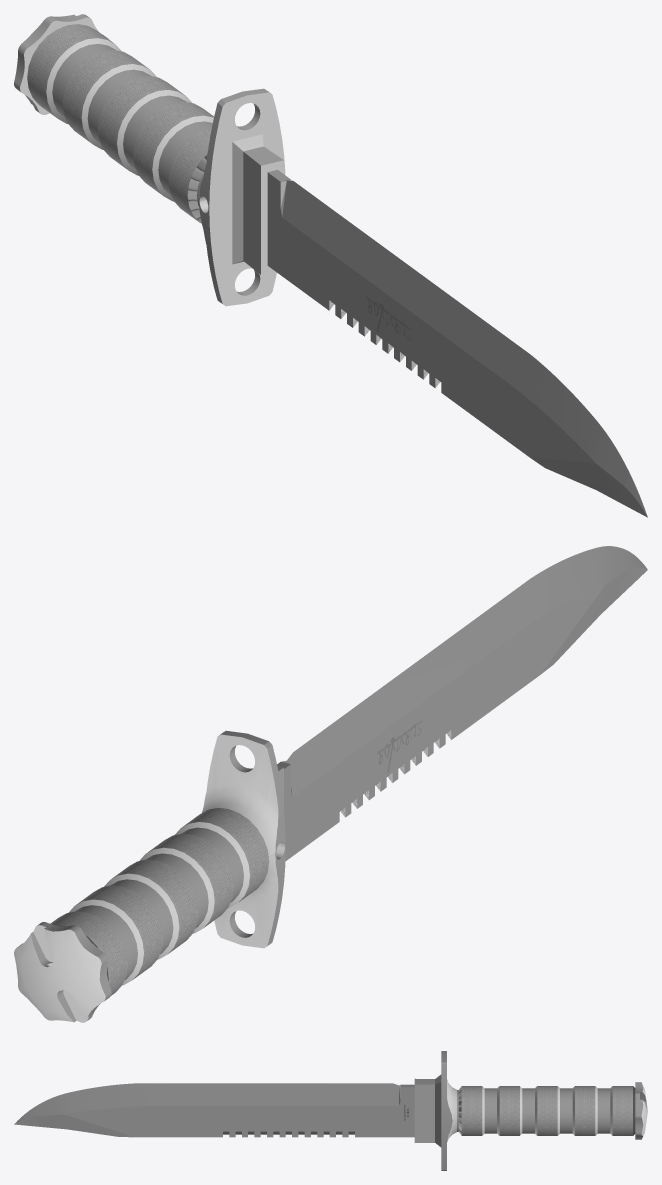
Rendered from model_align.obj.
3 views of the same model, one above another, from view 1: azimuth 30°, elevation 25°; view 2: azimuth 150°, elevation 25°; view 3: azimuth 270°, elevation 25° (orthographic). The views are drawn at different scales.
Visible parts, largest first — view 1: mesh1_mesh1-geometry, mesh5_mesh5-geometry, mesh2_mesh2-geometry, mesh3_mesh3-geometry, mesh6_mesh6-geometry, mesh4_mesh4-geometry, mesh22_mesh22-geometry; view 2: mesh1_mesh1-geometry, mesh5_mesh5-geometry, mesh2_mesh2-geometry, mesh22_mesh22-geometry, mesh6_mesh6-geometry, mesh4_mesh4-geometry; view 3: mesh1_mesh1-geometry, mesh5_mesh5-geometry, mesh6_mesh6-geometry, mesh3_mesh3-geometry, mesh4_mesh4-geometry, mesh2_mesh2-geometry, mesh22_mesh22-geometry.
Boxes of the visible parts, x1,y1,x2,y2 form: mesh1_mesh1-geometry: (267, 169, 647, 517); mesh5_mesh5-geometry: (62, 50, 213, 201); mesh2_mesh2-geometry: (198, 88, 285, 306); mesh3_mesh3-geometry: (232, 134, 283, 274); mesh6_mesh6-geometry: (27, 24, 121, 123); mesh4_mesh4-geometry: (168, 128, 211, 223); mesh22_mesh22-geometry: (14, 14, 109, 114); mesh1_mesh1-geometry: (277, 546, 647, 860); mesh5_mesh5-geometry: (68, 827, 243, 985); mesh2_mesh2-geometry: (202, 730, 285, 948); mesh22_mesh22-geometry: (14, 922, 111, 1022); mesh6_mesh6-geometry: (50, 905, 137, 995); mesh4_mesh4-geometry: (174, 808, 269, 907); mesh1_mesh1-geometry: (14, 1083, 414, 1137); mesh5_mesh5-geometry: (484, 1086, 597, 1135); mesh6_mesh6-geometry: (597, 1086, 635, 1135); mesh3_mesh3-geometry: (414, 1074, 441, 1147); mesh4_mesh4-geometry: (457, 1086, 484, 1135); mesh2_mesh2-geometry: (441, 1051, 456, 1170); mesh22_mesh22-geometry: (635, 1082, 647, 1139).
Bounding box in the file's own units: 0.0204 × 0.0443 × 0.2291.
7 materials, 2 textured.
